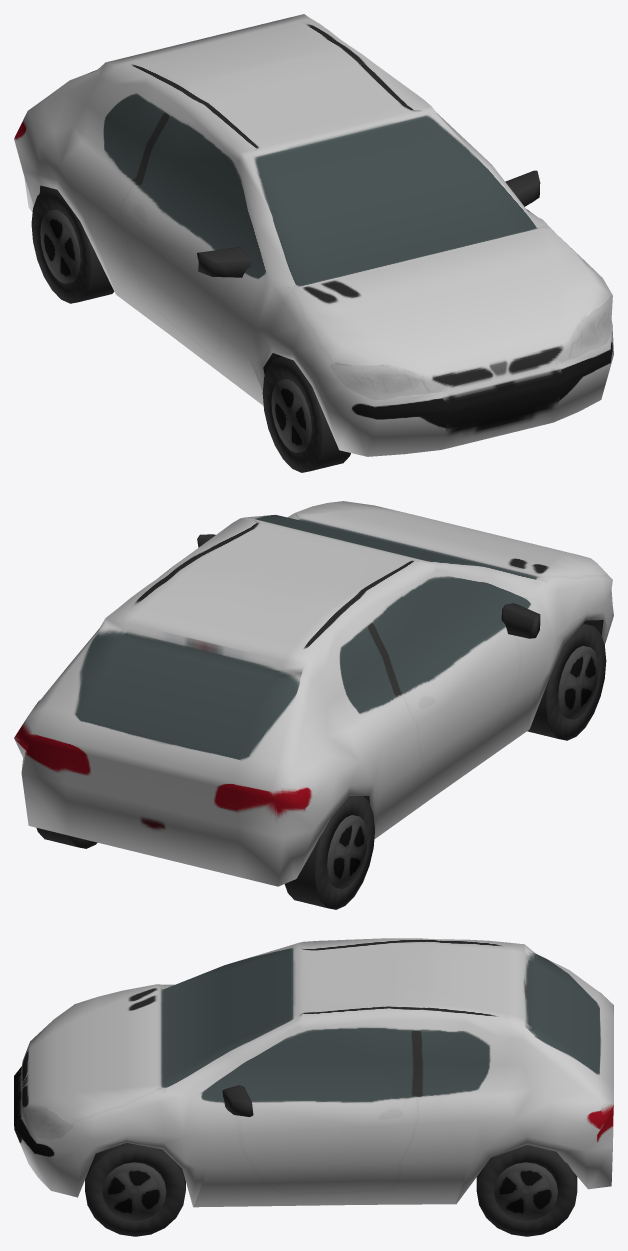
Rendered from Coupe.fbx.
3 renders of one model, top to bottom at view 1: azimuth 30°, elevation 25°; view 2: azimuth 150°, elevation 25°; view 3: azimuth 270°, elevation 25°, orthographic. The views are drawn at different scales.
Visible parts, largest first — view 1: Coupe; view 2: Coupe; view 3: Coupe.
Boxes of the visible parts, box(x1,y1,x2,y2) form: Coupe: box(14, 14, 613, 472); Coupe: box(14, 501, 613, 909); Coupe: box(14, 938, 613, 1236).
Bounding box in the file's own units: 0.0957 × 0.0651 × 0.1739.
Materials: 3 (2 with a texture image).
